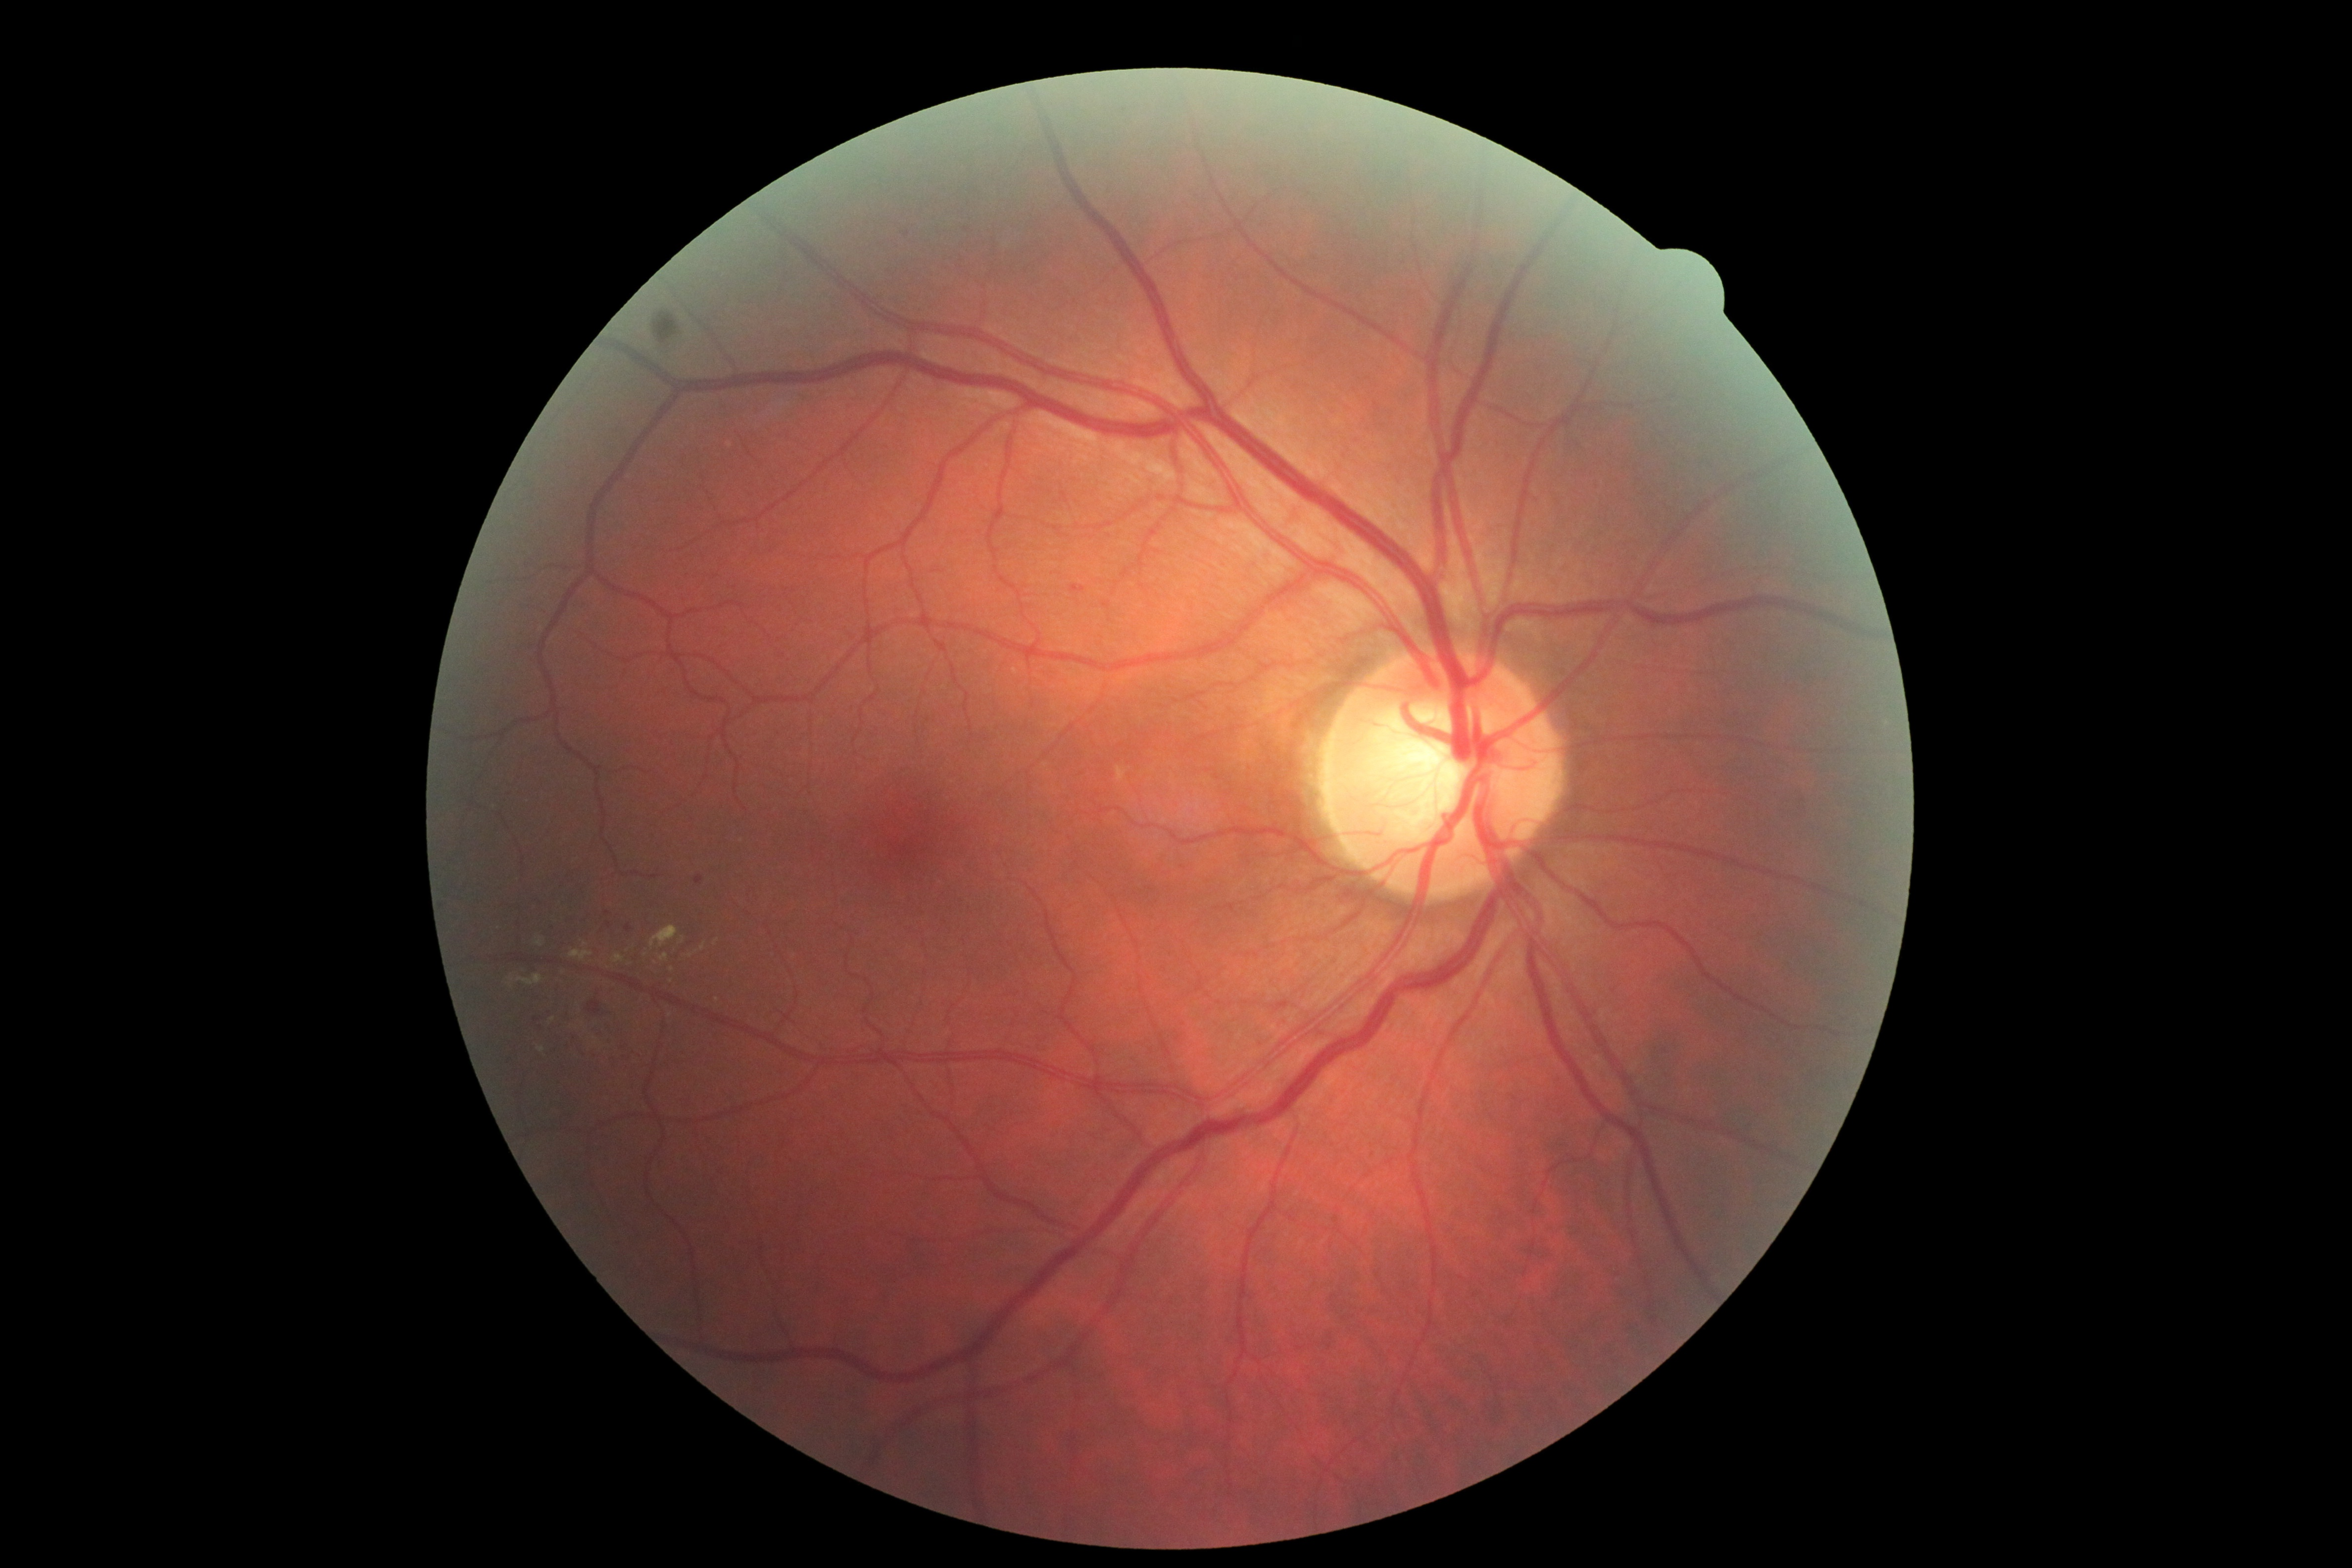Fovea: (812, 754, 990, 933)
OD: (1302, 630, 1578, 915)
